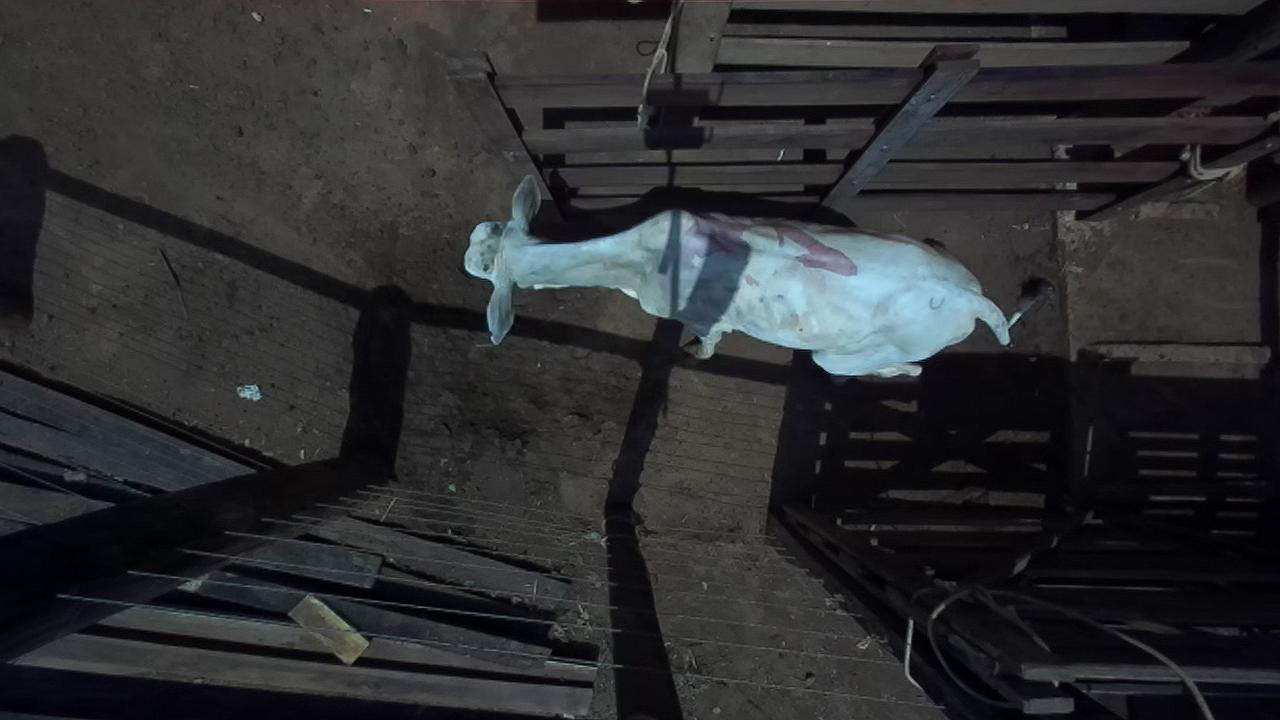cattle: (461, 172, 1029, 379)
